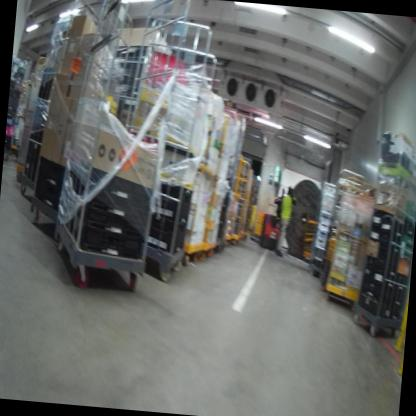pallet_truck: (245, 209, 287, 252)
